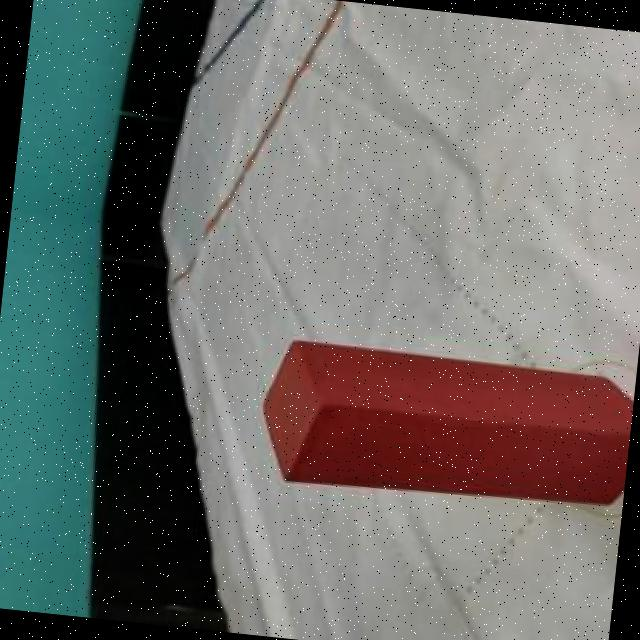redbox: (250, 337, 636, 520)
